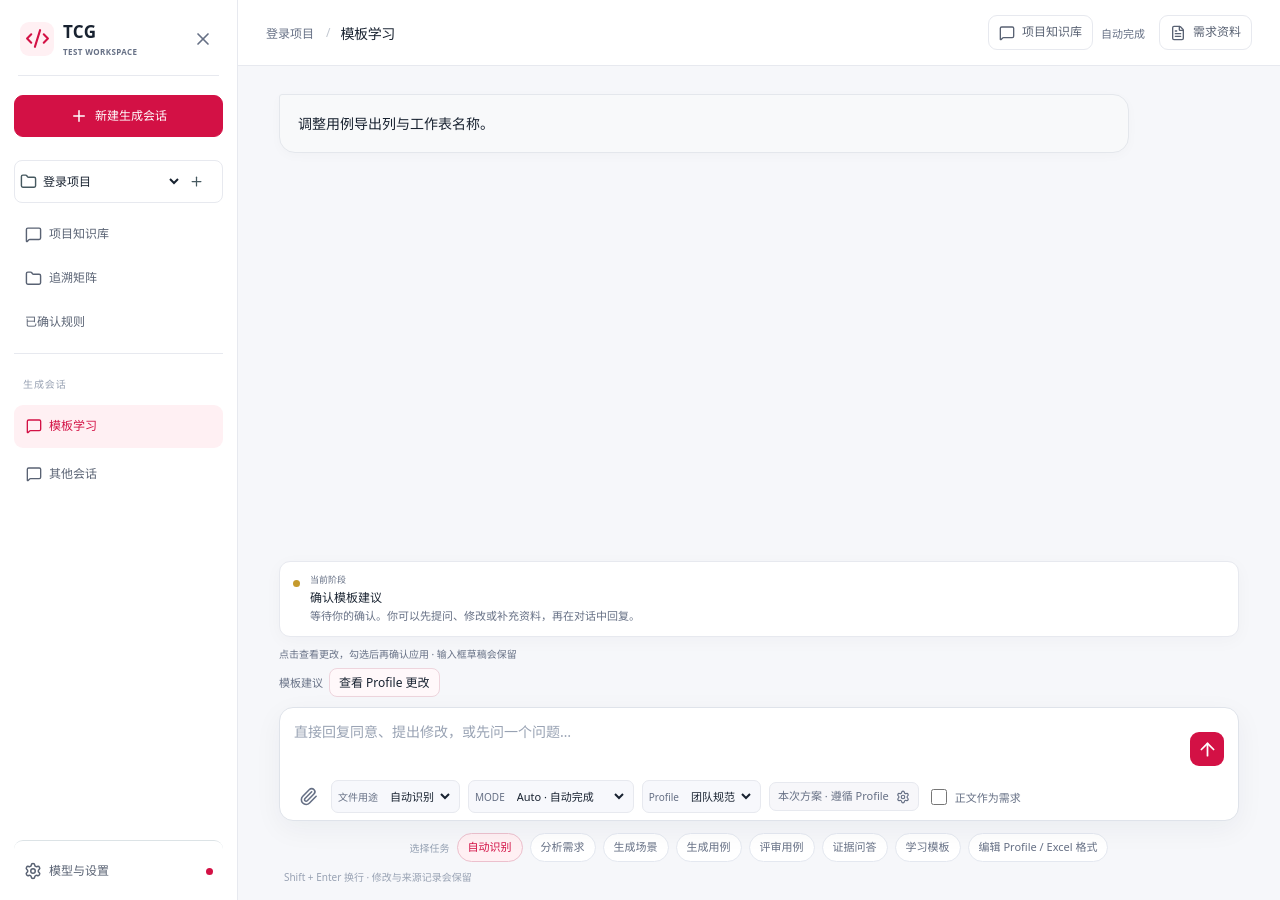
only checked Profile fields apply and a successful save removes the current suggestion
Step 1. Click the button "查看 Profile 更改" → (384, 682), box [329,668,440,697]
(page scrolled)
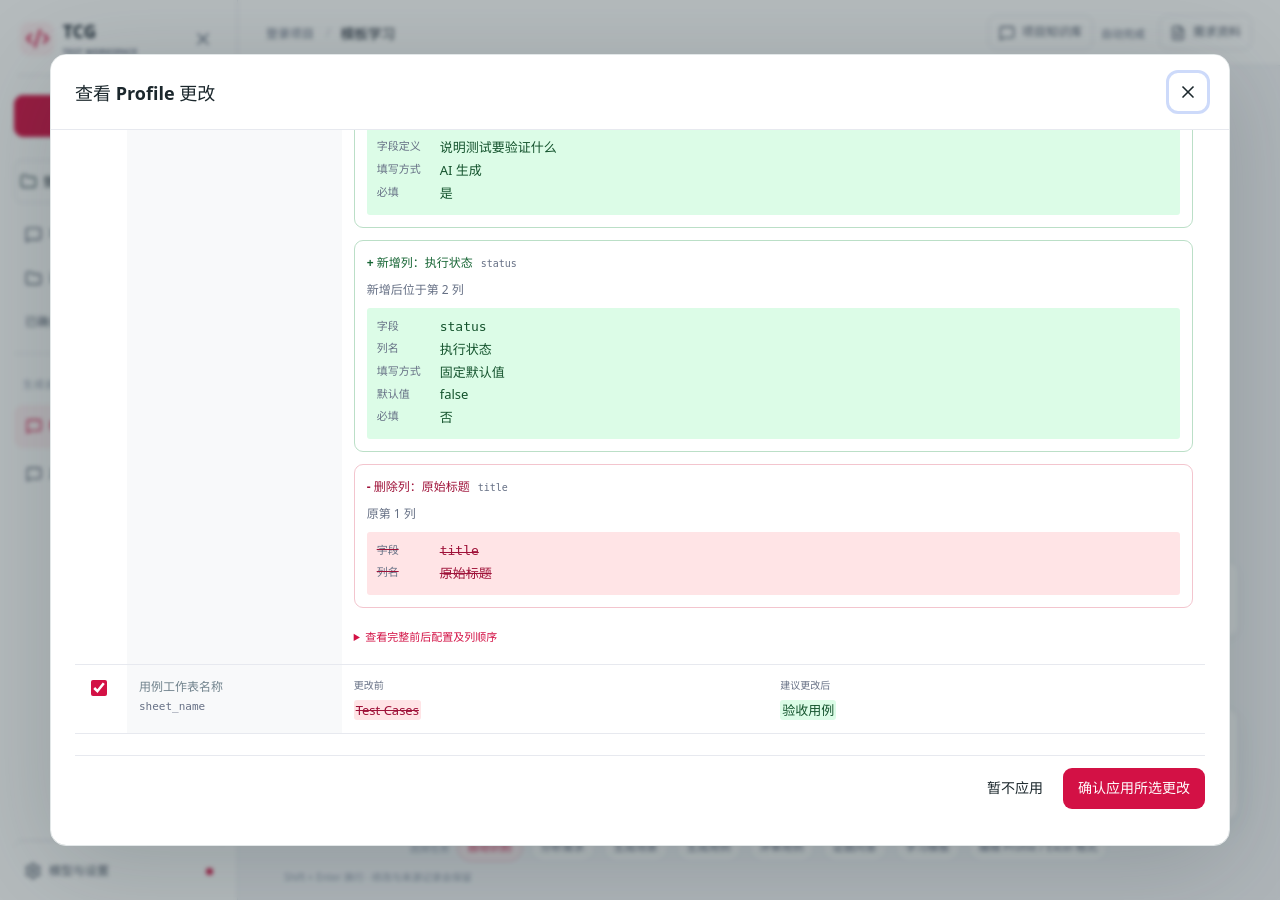
Step 2. Click the checkbox named "应用用例工作表名称" → (99, 688), box [91,680,107,696]
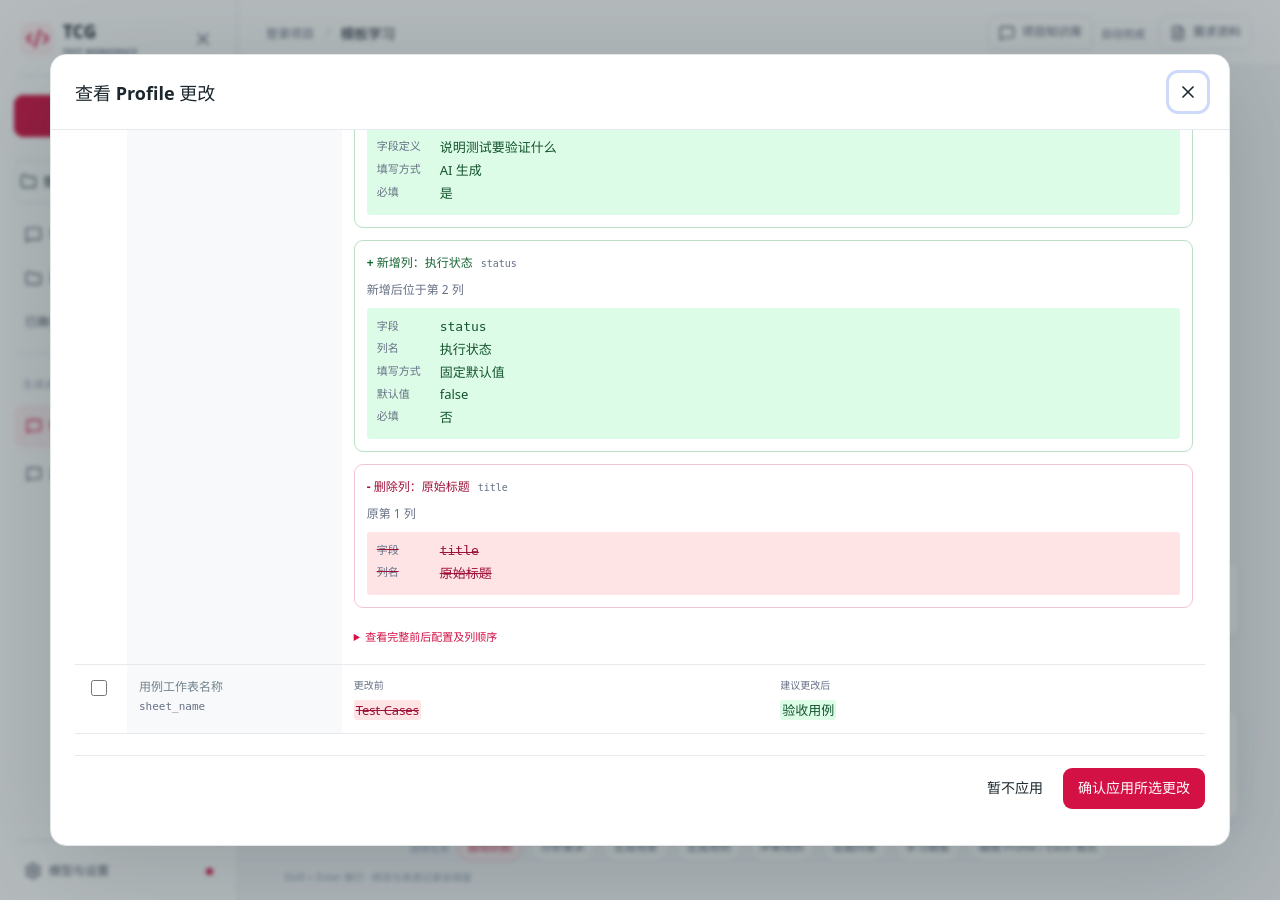
Step 3. Click the button "确认应用所选更改" → (1134, 789), box [1063,768,1205,809]
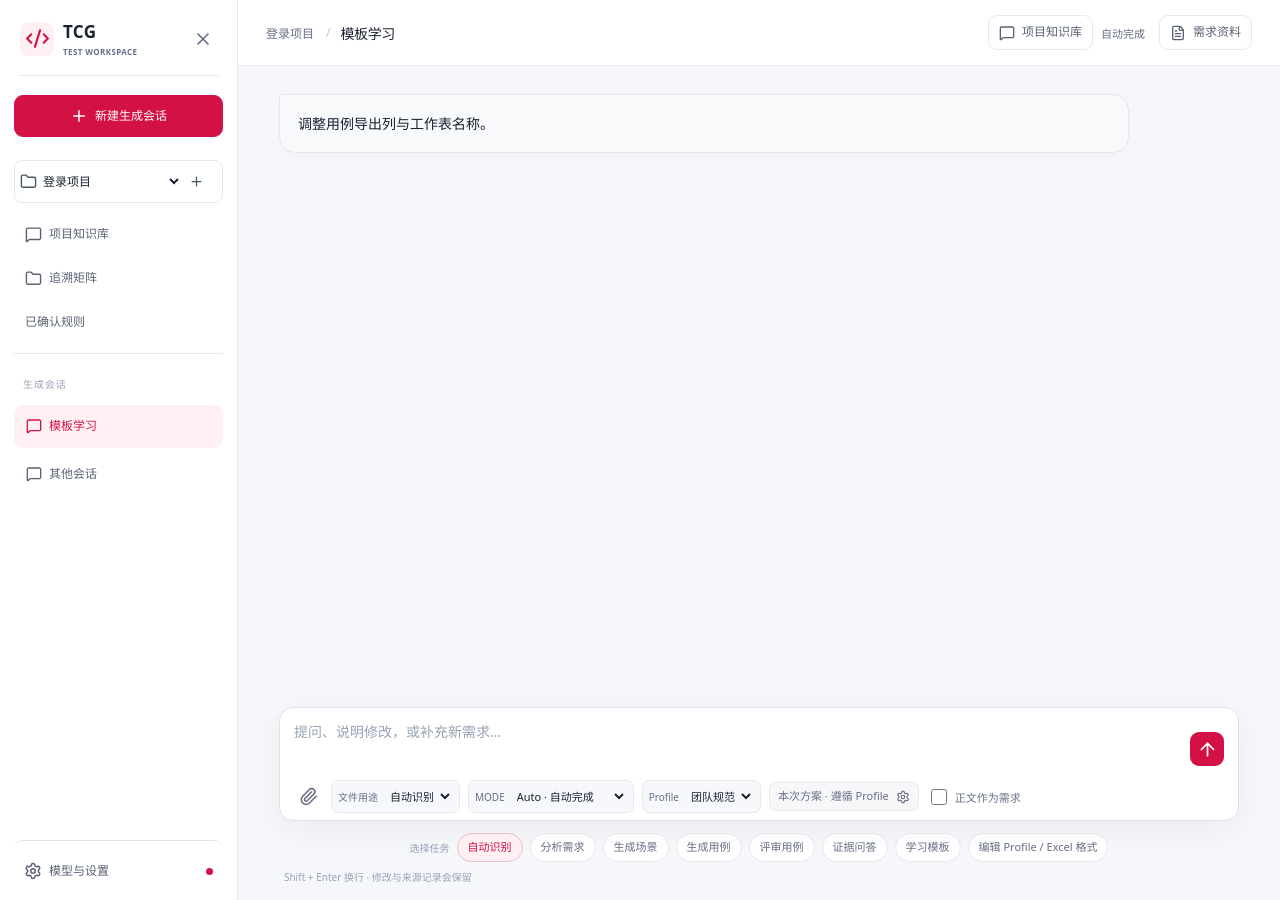
Check: the dialog is gone
Check: the button "查看 Profile 更改" is gone
